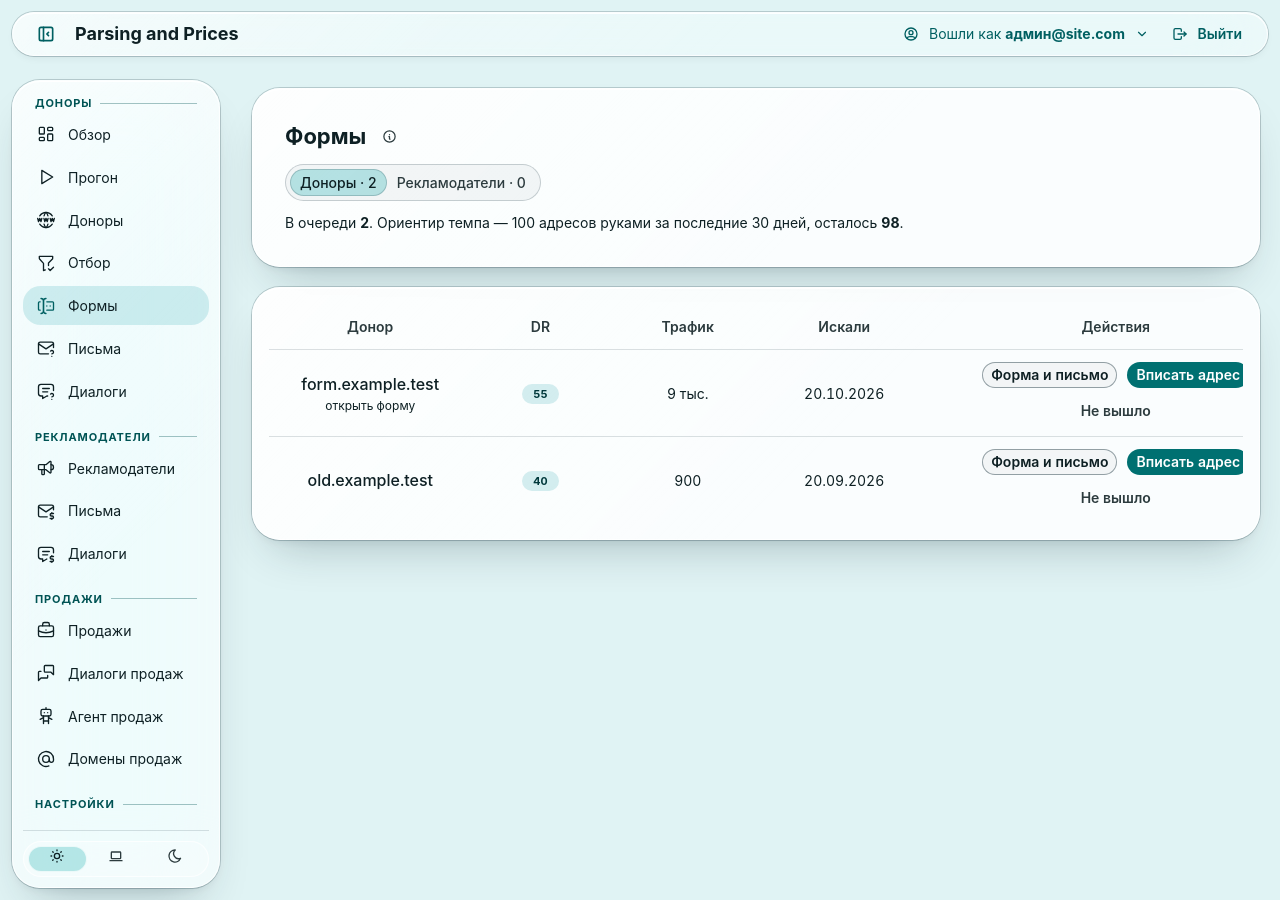
«Формы»: окно «Форма и письмо» › текст ещё не собран — сборка задачей, и собранный текст появляется в окне
The width and height of the screenshot is (1280, 900).
Check: the link "form.example.test" is shown, box x1=301 y1=372 x2=439 y2=396
Click the button "Форма и письмо" in the row of "form". click: (1050, 376)
box: x1=982 y1=362 x2=1117 y2=388
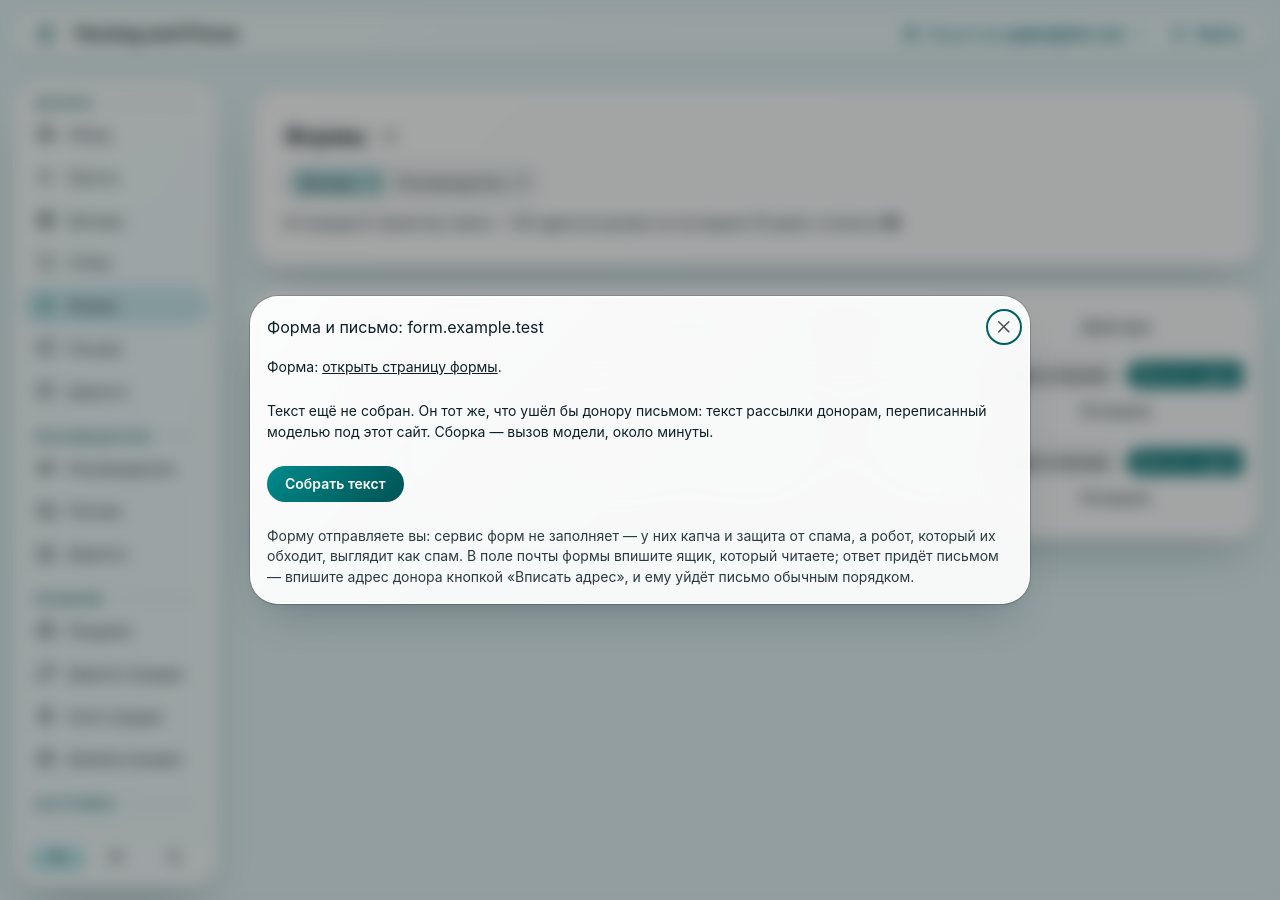
Check: the text "Форму отправляете вы: сервис форм не заполняет" is shown, box x1=267 y1=527 x2=999 y2=585
Click the button "Собрать текст". click: (335, 484)
box: x1=267 y1=466 x2=404 y2=502
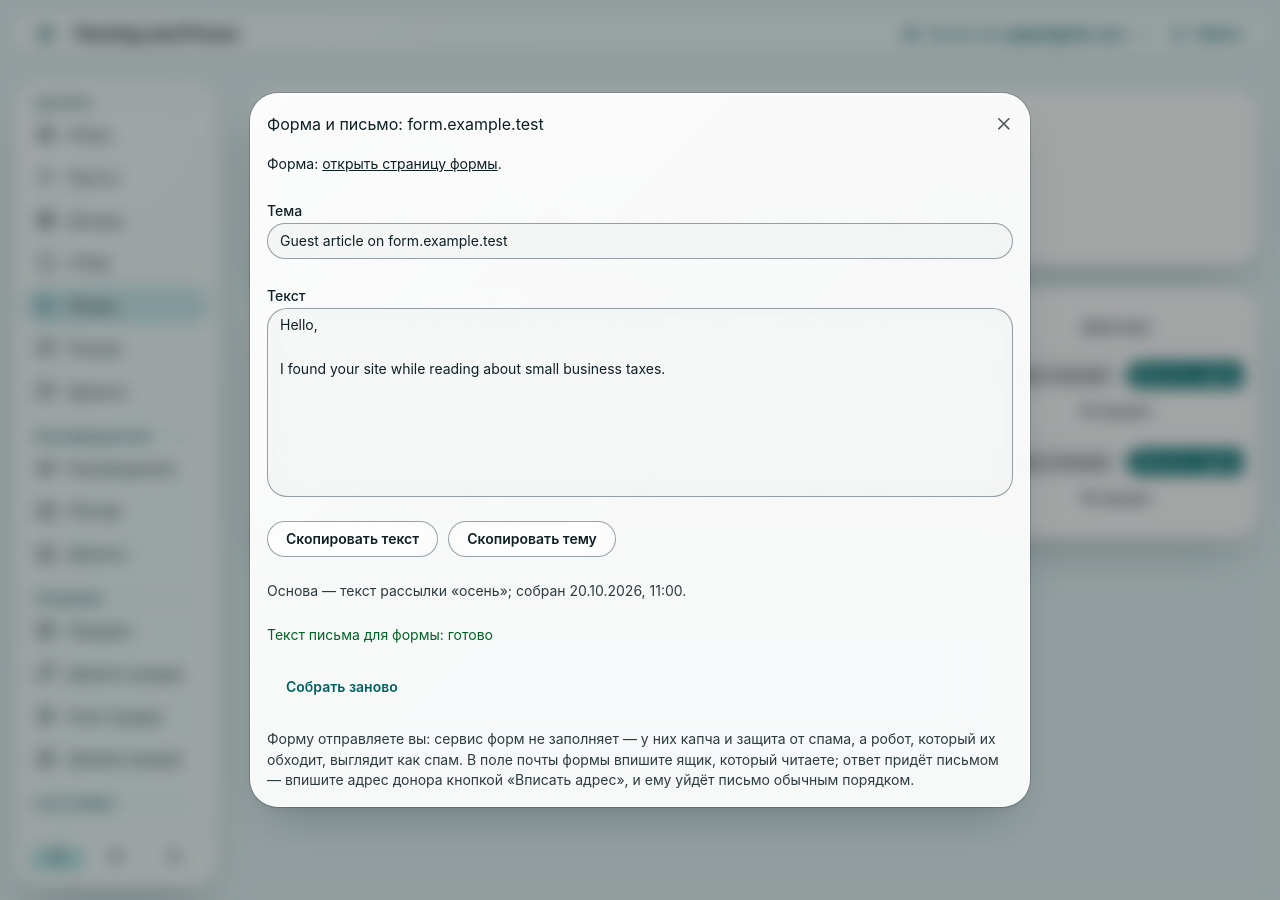
Check: the text "Текст письма для формы: идёт" is shown, box x1=267 y1=626 x2=493 y2=643
Check: the field showing "Guest article on form.example.test" is shown, box x1=267 y1=223 x2=1013 y2=259
Check: the button "Скопировать текст" is shown, box x1=267 y1=521 x2=438 y2=557
